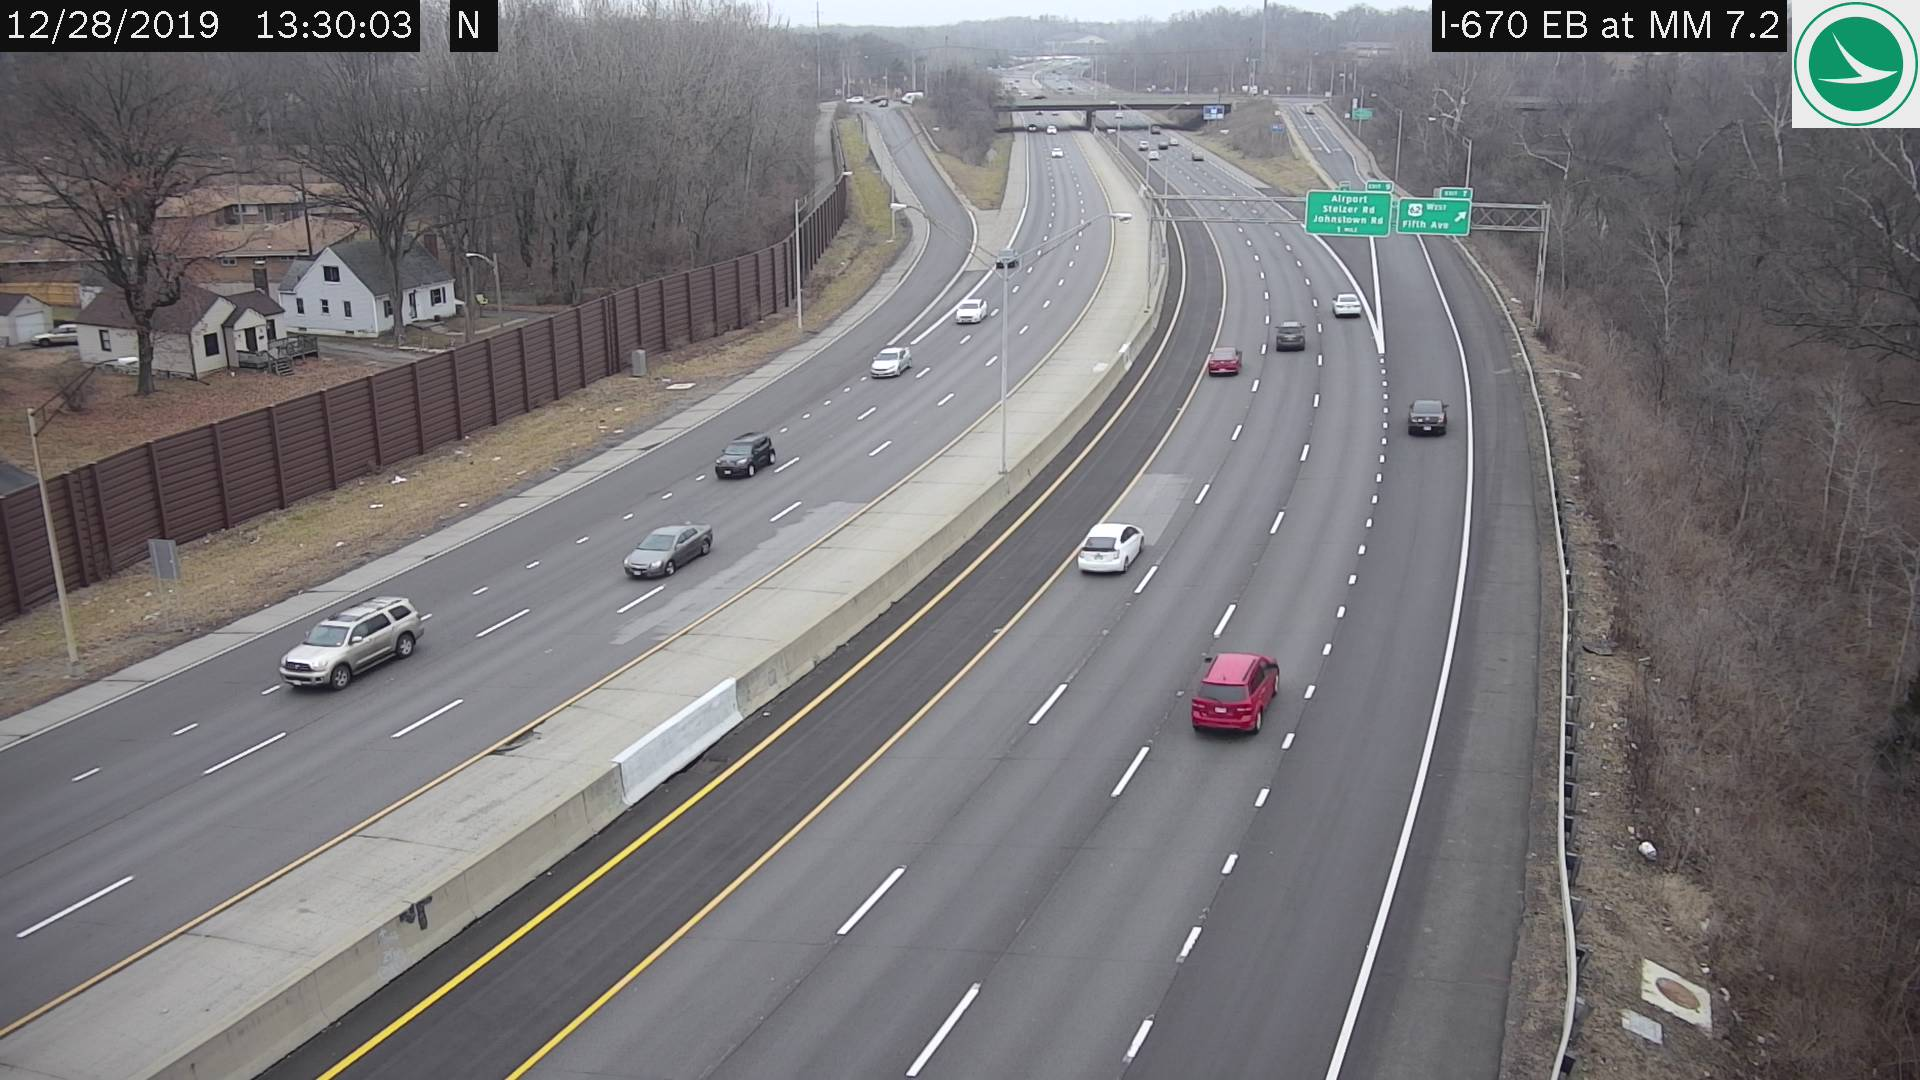car: (278, 592, 422, 696), (1189, 651, 1278, 736), (618, 524, 709, 576), (713, 433, 774, 492), (1077, 520, 1142, 572), (1406, 400, 1447, 436), (870, 344, 910, 380), (1211, 348, 1242, 376), (1278, 320, 1302, 352), (957, 295, 986, 320), (1331, 291, 1358, 316), (998, 248, 1014, 268)
